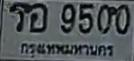0: (96, 3, 112, 33), (114, 3, 130, 33)
5: (78, 2, 93, 33)
9: (60, 3, 75, 32)
A35: (8, 1, 30, 31)
A43: (28, 2, 46, 32)
BKK: (18, 39, 114, 60)
